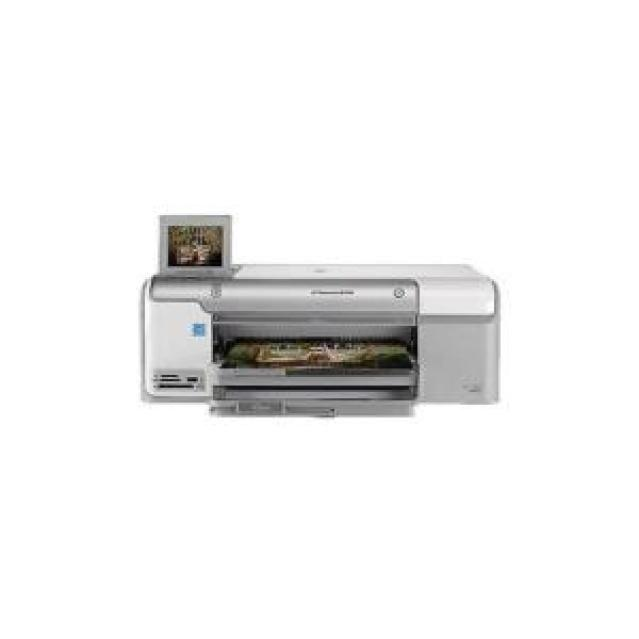Printer: (140, 262, 501, 419)
